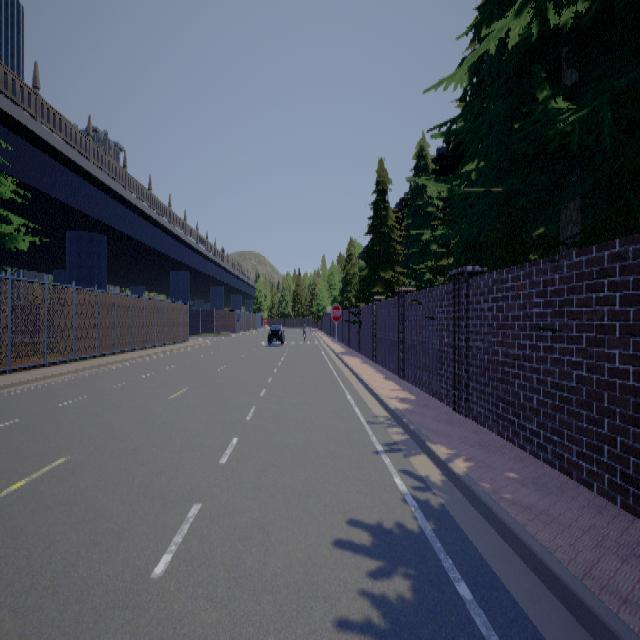traffic_sign: (330, 303, 341, 322)
vehicle: (265, 318, 286, 342)
